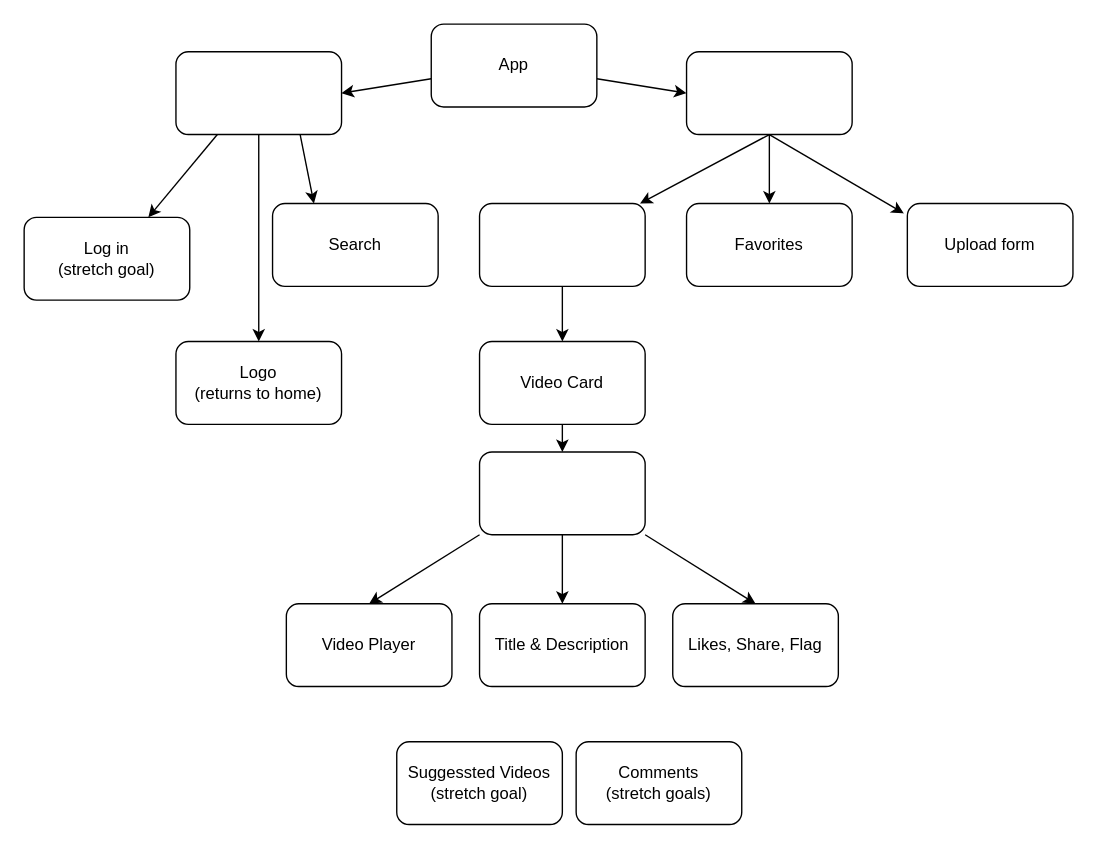
The diagram is 1097 pixels wide and 849 high, and some of its shapes have lost their labels. Each missing label, with the box of its shape:
Header: (175, 50, 342, 135)
Home / Video Grid: (478, 202, 645, 286)
NavBar (react routers): (685, 50, 852, 135)
Video Page: (478, 451, 645, 535)
